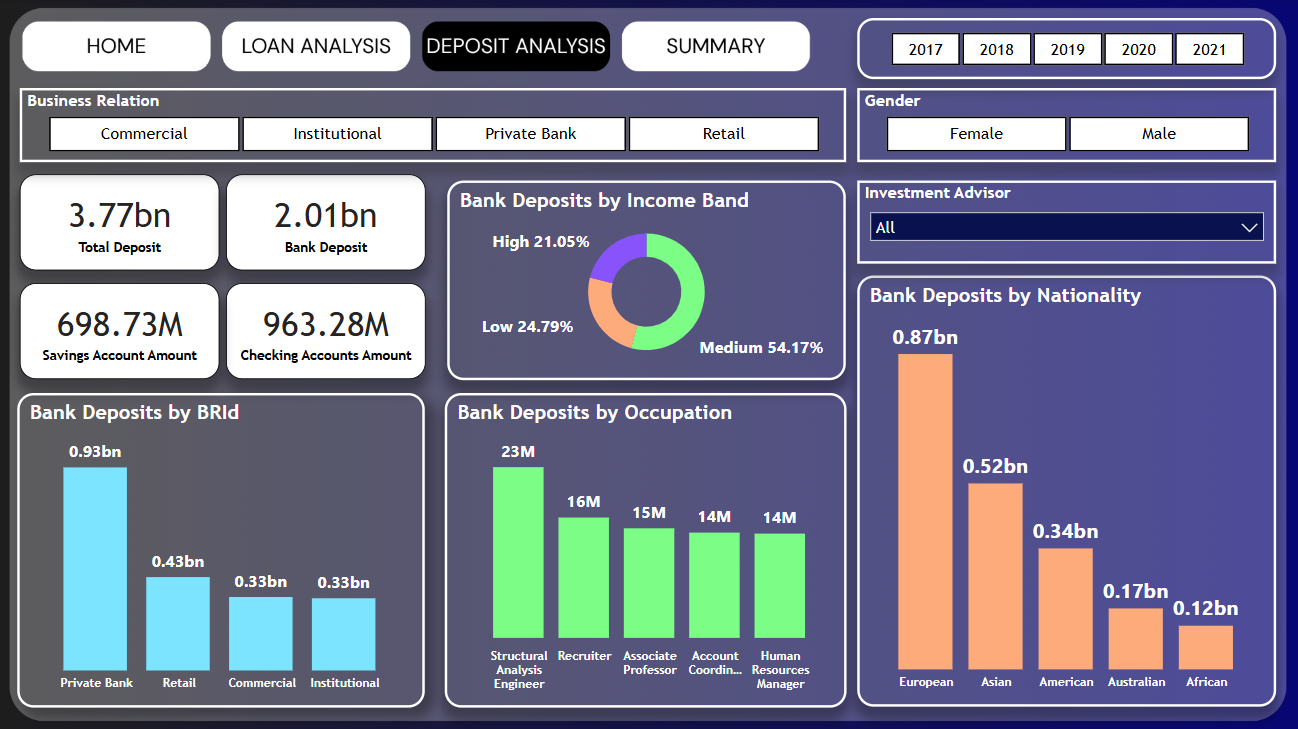

What the dashboard file says about the page in this screenshot:
{"tool":"powerbi","page":{"name":"Deposit Analysis","canvas":[1280,720],"ordinal":2},"visuals":[{"type":"card","fields":{"Values":["Measures Table.Total Deposit"]},"box":[22.9,172.9,195.7,94.3],"z":0},{"type":"card","fields":{"Values":["Sum(Banking.Bank Deposits)"]},"box":[225.7,172.9,195.7,94.3],"z":1000},{"type":"card","fields":{"Values":["Sum(Banking.Checking Accounts)"]},"box":[225.7,280,195.7,94.3],"z":2000},{"type":"card","fields":{"Values":["Sum(Banking.Saving Accounts)"]},"box":[22.9,280,195.7,94.3],"z":3000},{"type":"donutChart","title":"Bank Deposits by Income Band","fields":{"Category":["Banking.Income Band"],"Y":["Sum(Banking.Bank Deposits)"]},"box":[442.9,178.6,391.4,195.7],"z":4000},{"type":"clusteredColumnChart","title":"Bank Deposits by BRId","fields":{"Y":["Sum(Banking.Bank Deposits)"],"Category":["Banking.BRId"]},"box":[21.4,387.1,400,308.6],"z":5000},{"type":"clusteredColumnChart","title":"Bank Deposits by Occupation","fields":{"Y":["Sum(Banking.Bank Deposits)"],"Category":["Banking.Occupation"]},"box":[440,387.1,394.3,308.6],"z":6000},{"type":"clusteredColumnChart","title":"Bank Deposits by Nationality","fields":{"Y":["Sum(Banking.Bank Deposits)"],"Category":["Banking.Nationality"]},"box":[845.7,272.9,411.4,422.9],"z":7000},{"type":"slicer","fields":{"Values":["Banking.Year of Joining"]},"box":[845.7,20,411.4,60],"z":8000},{"type":"slicer","title":"Investment Advisor","fields":{"Values":["Banking.IAId"]},"box":[845.7,178.6,411.4,81.4],"z":9000},{"type":"slicer","title":"Gender","fields":{"Values":["Banking.GenderId"]},"box":[845.7,88.6,411.4,72.9],"z":10000},{"type":"slicer","title":"Business Relation","fields":{"Values":["Banking.BRId"]},"box":[22.9,88.6,811.4,72.9],"z":11000},{"type":"actionButton","box":[24.3,28.6,181.4,40],"z":12000},{"type":"actionButton","box":[221.4,28.6,181.4,40],"z":13000},{"type":"actionButton","box":[421.4,30,181.4,40],"z":14000},{"type":"actionButton","box":[615.7,28.6,181.4,40],"z":15000}]}

Visuals, with their boxes in screenshot pixels (x1, y1, x2, y2), scaled from the page's 1280x720 canvas onto the 1298x729 screenshot:
card - Measures Table.Total Deposit: <region>23, 175, 222, 271</region>
card - Sum(Banking.Bank Deposits): <region>229, 175, 427, 271</region>
card - Sum(Banking.Checking Accounts): <region>229, 284, 427, 379</region>
card - Sum(Banking.Saving Accounts): <region>23, 284, 222, 379</region>
"Bank Deposits by Income Band" donutChart: <region>449, 181, 846, 379</region>
"Bank Deposits by BRId" clusteredColumnChart: <region>22, 392, 427, 704</region>
"Bank Deposits by Occupation" clusteredColumnChart: <region>446, 392, 846, 704</region>
"Bank Deposits by Nationality" clusteredColumnChart: <region>858, 276, 1275, 704</region>
slicer - Banking.Year of Joining: <region>858, 20, 1275, 81</region>
"Investment Advisor" slicer: <region>858, 181, 1275, 263</region>
"Gender" slicer: <region>858, 90, 1275, 164</region>
"Business Relation" slicer: <region>23, 90, 846, 164</region>
actionButton: <region>25, 29, 209, 69</region>
actionButton: <region>225, 29, 408, 69</region>
actionButton: <region>427, 30, 611, 71</region>
actionButton: <region>624, 29, 808, 69</region>
